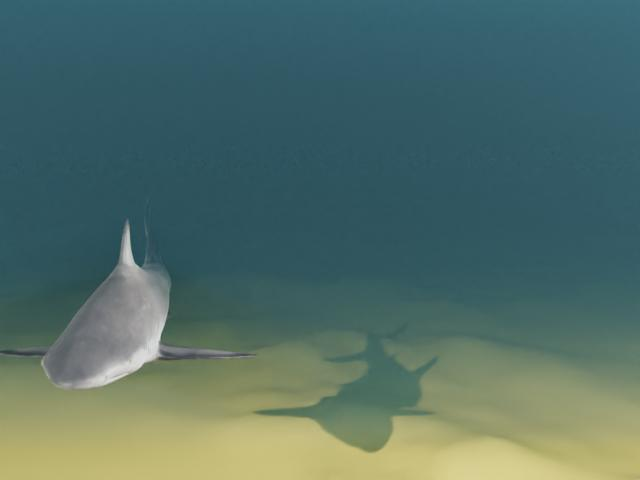Carribean Shark.001: (0, 192, 257, 390)
